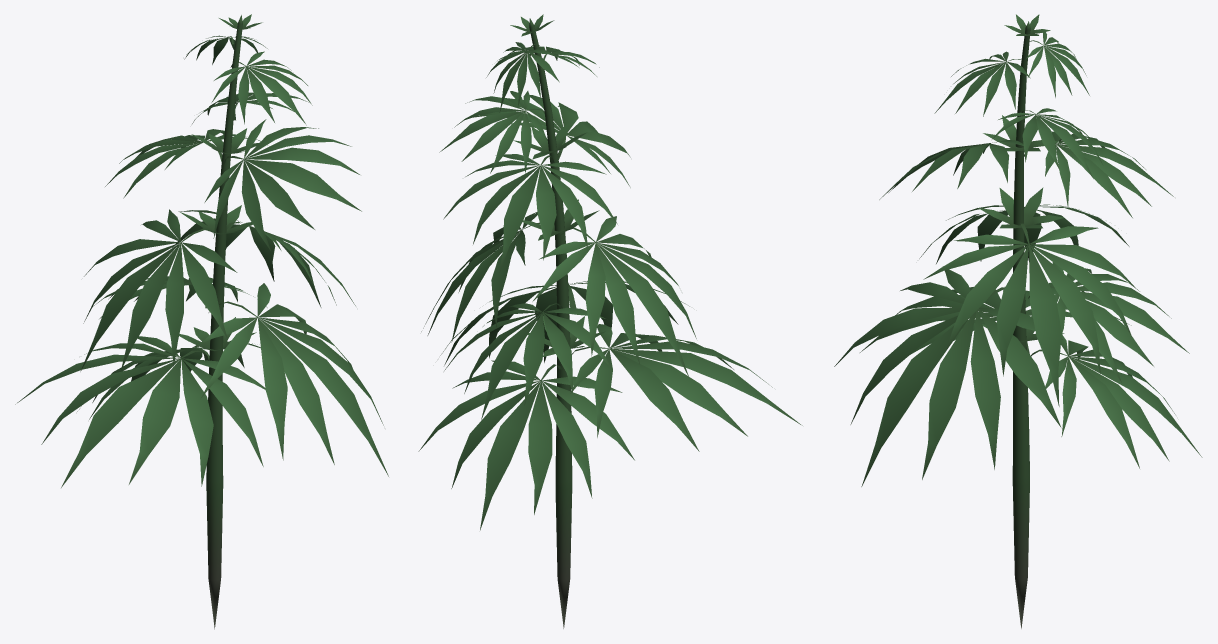
File: plants-leafy-plants-cannabis_v3.fbx
The picture shows the model from 3 angles, left to right: view 1: azimuth 30°, elevation 25°; view 2: azimuth 150°, elevation 25°; view 3: azimuth 270°, elevation 25°; orthographic projection. The views are drawn at different scales.
Parts seen in each view (by area): view 1: Cannabis_v3; view 2: Cannabis_v3; view 3: Cannabis_v3.
Part boxes in pixels (x1=…): Cannabis_v3: x1=15, y1=14, x2=388, y2=629; Cannabis_v3: x1=418, y1=14, x2=802, y2=628; Cannabis_v3: x1=834, y1=14, x2=1202, y2=628.
Size of the model in its own units: 0.8551 by 1.5 by 0.808.
